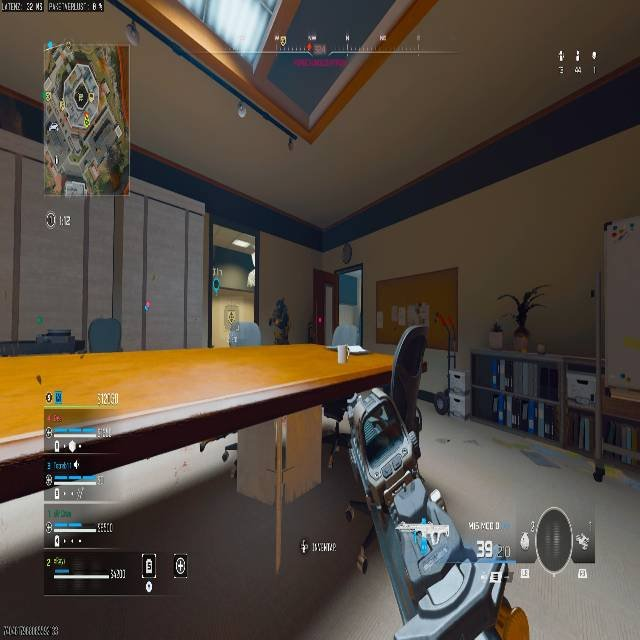head: (276, 297, 285, 306)
player: (269, 297, 289, 344)
